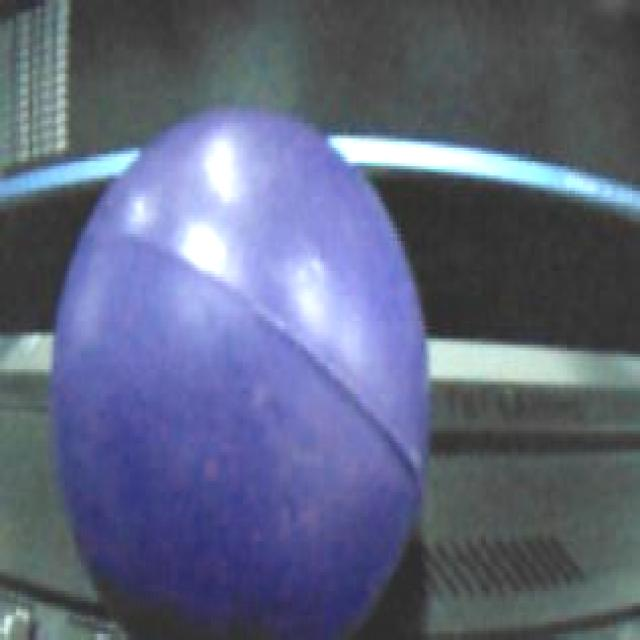BallPurple: (50, 107, 427, 640)
